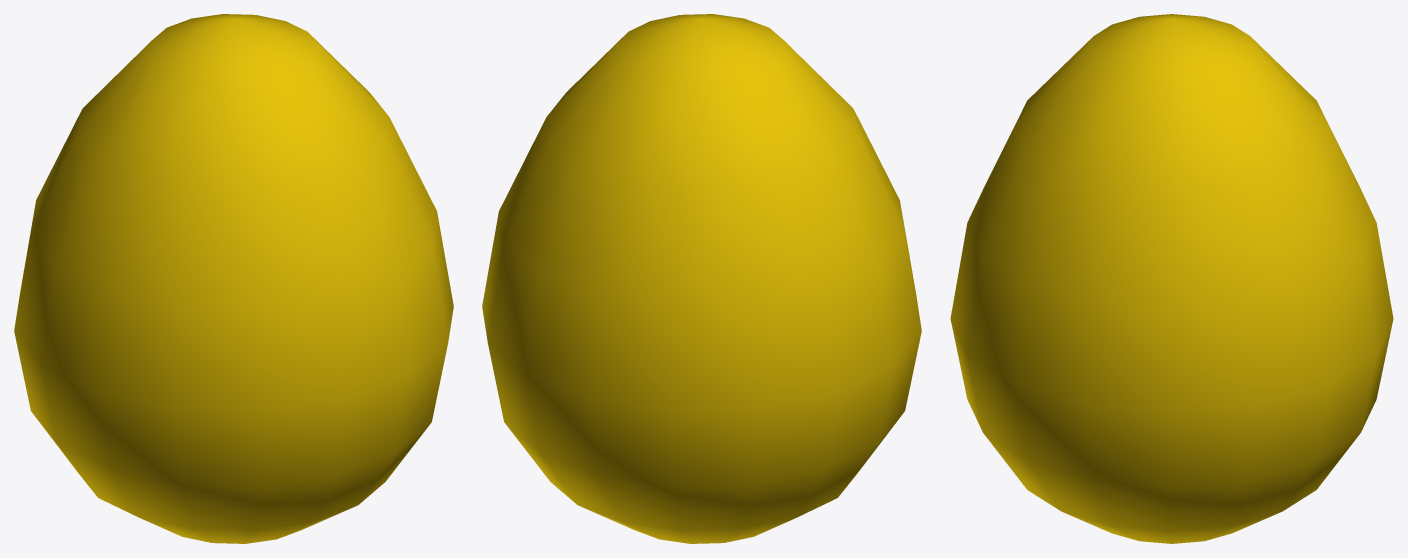
The model's file is eggGold.glb.
The picture shows the model from 3 angles, left to right: view 1: azimuth 30°, elevation 25°; view 2: azimuth 150°, elevation 25°; view 3: azimuth 270°, elevation 25°; orthographic projection.
Visible parts, largest first — view 1: Sphere003; view 2: Sphere003; view 3: Sphere003.
Part boxes in pixels (<box>): Sphere003: <box>14,14,453,543</box>; Sphere003: <box>482,14,921,543</box>; Sphere003: <box>950,14,1393,543</box>.
Bounding box in the file's own units: 0.1403 × 0.1761 × 0.1403.
